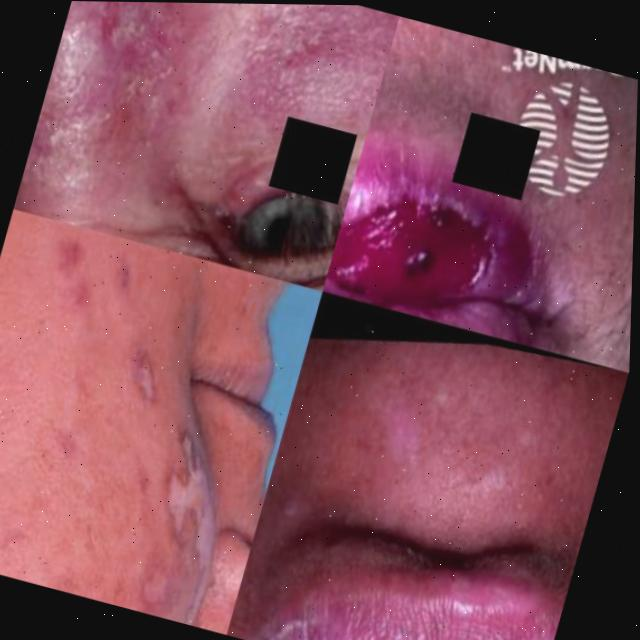lupus-detected: (0, 292, 305, 635), (319, 53, 639, 368), (224, 444, 587, 640), (125, 2, 398, 246), (13, 0, 249, 245), (0, 208, 216, 469), (112, 589, 230, 635)
